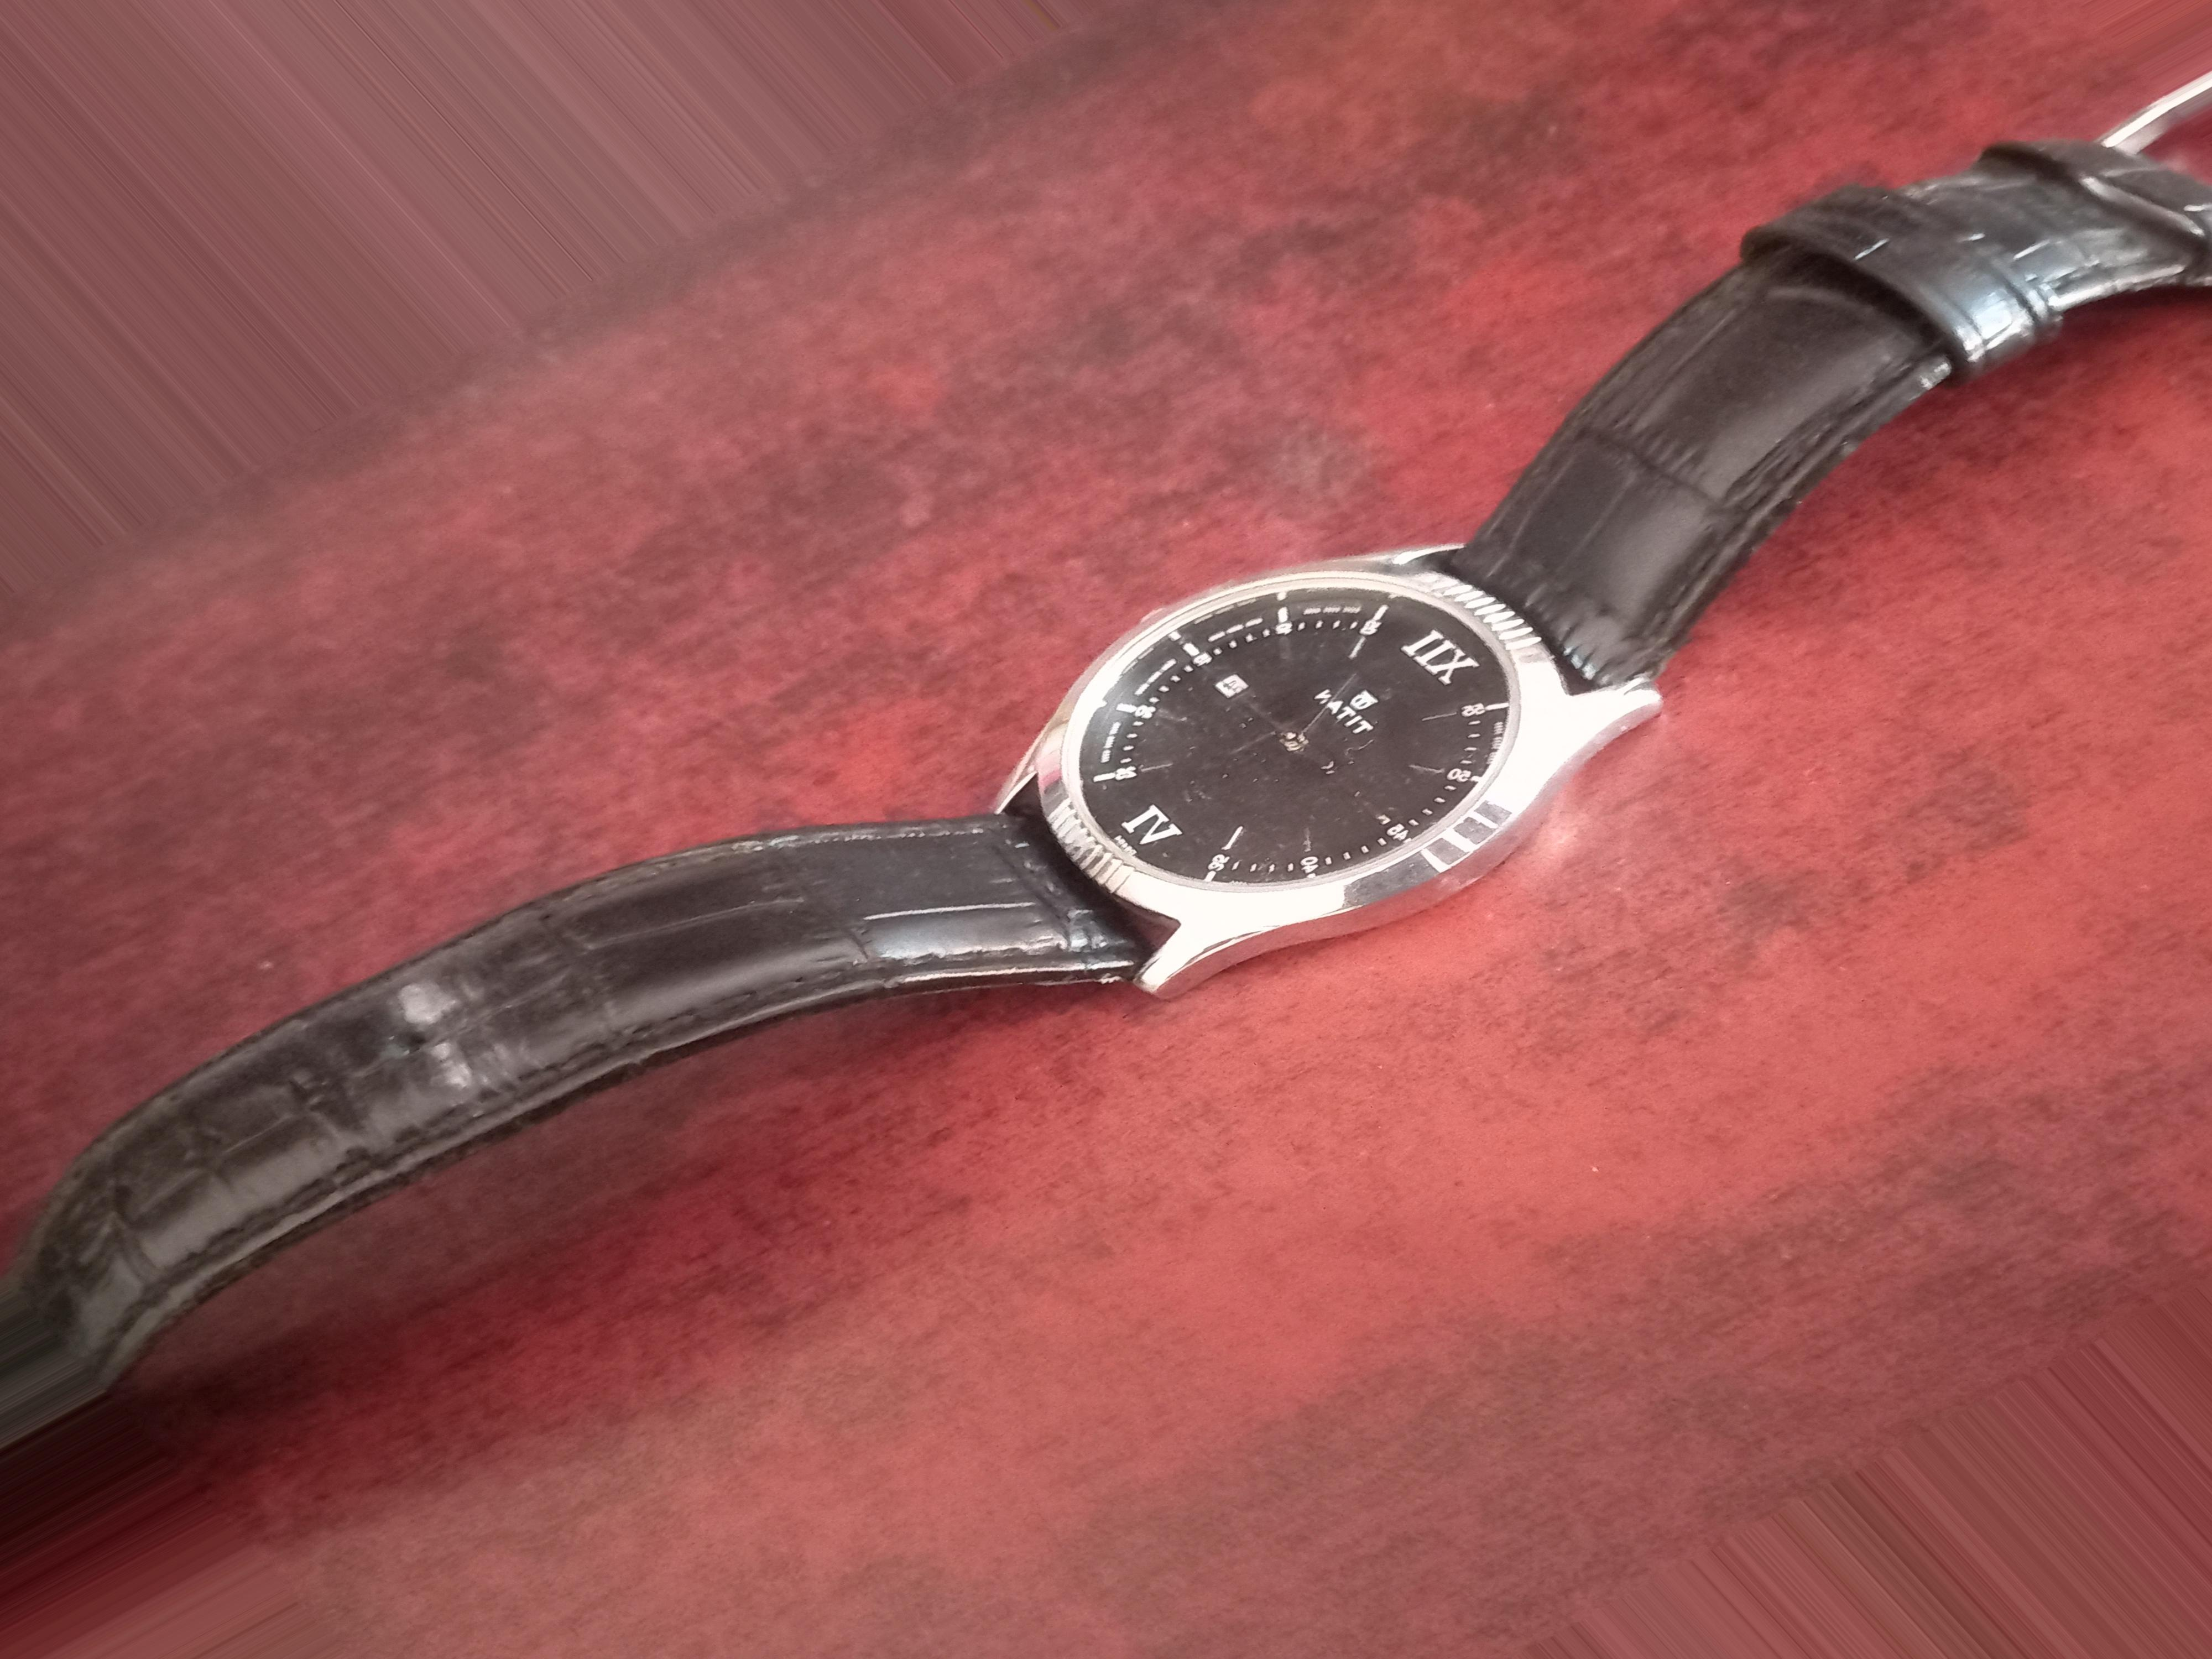watch: (0, 73, 2210, 1394)
